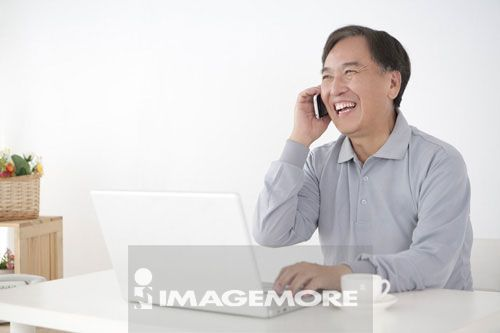talk: (291, 59, 370, 145)
